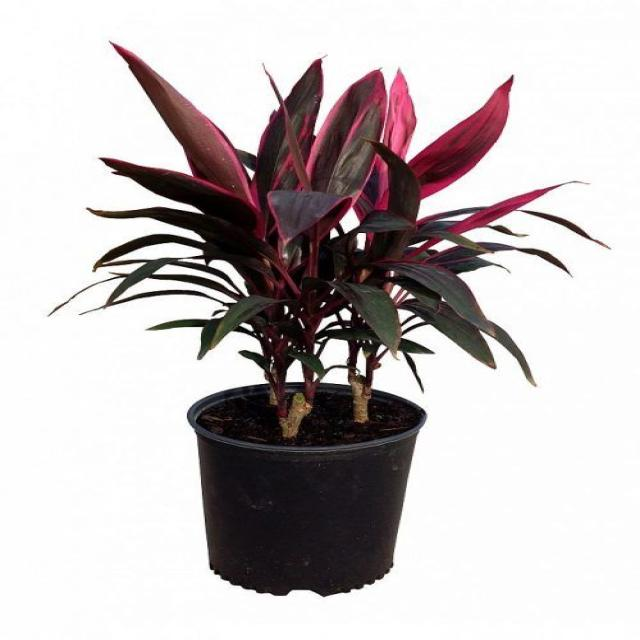Ti: (45, 39, 613, 430)
